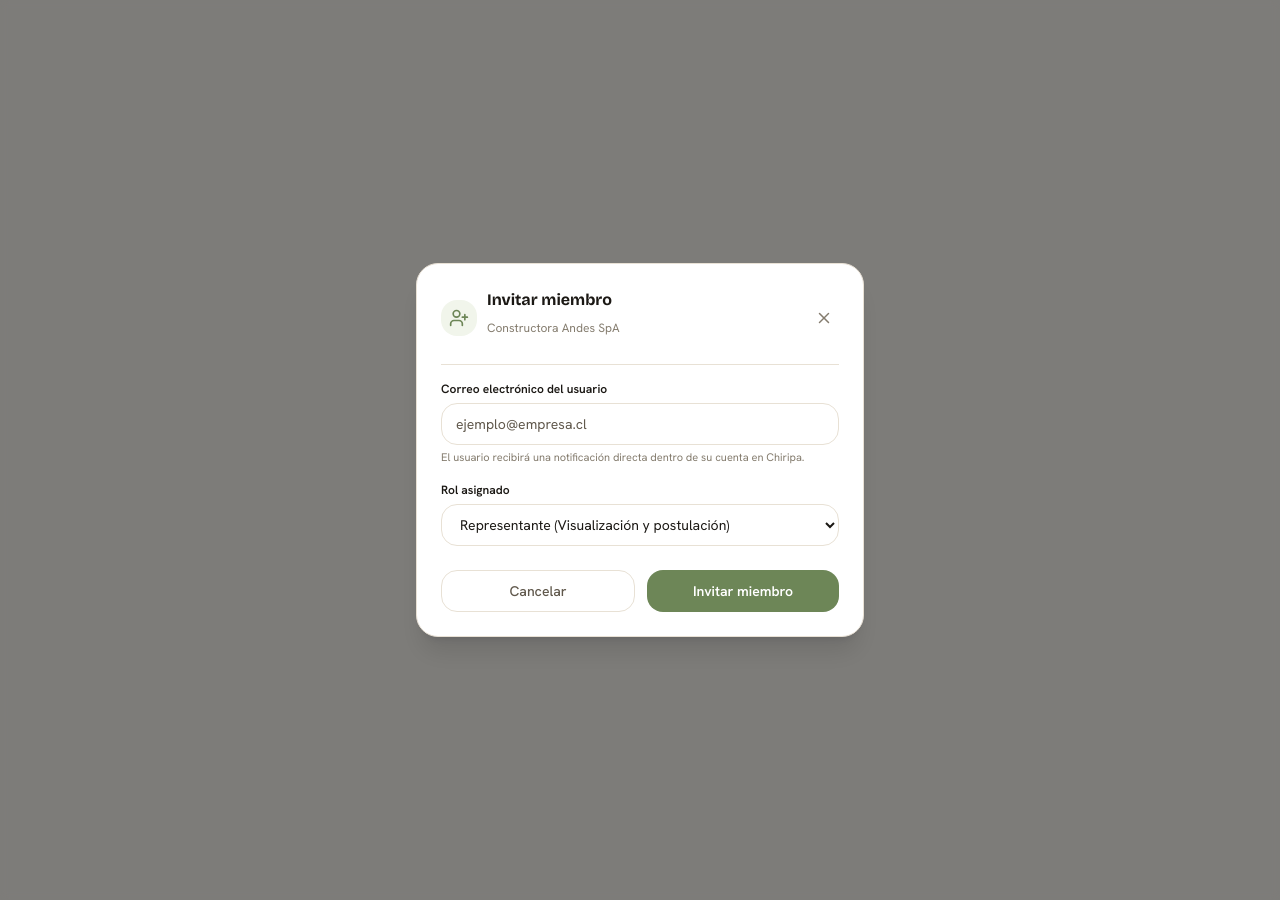
Test case: InviteMemberModal › envía la invitación in-app y muestra mensaje de éxito al completar
Type "socio@andes.cl" into the field labelled "Correo electrónico del usuario" at (640, 424), box top-left (441, 403), bottom-right (839, 445)
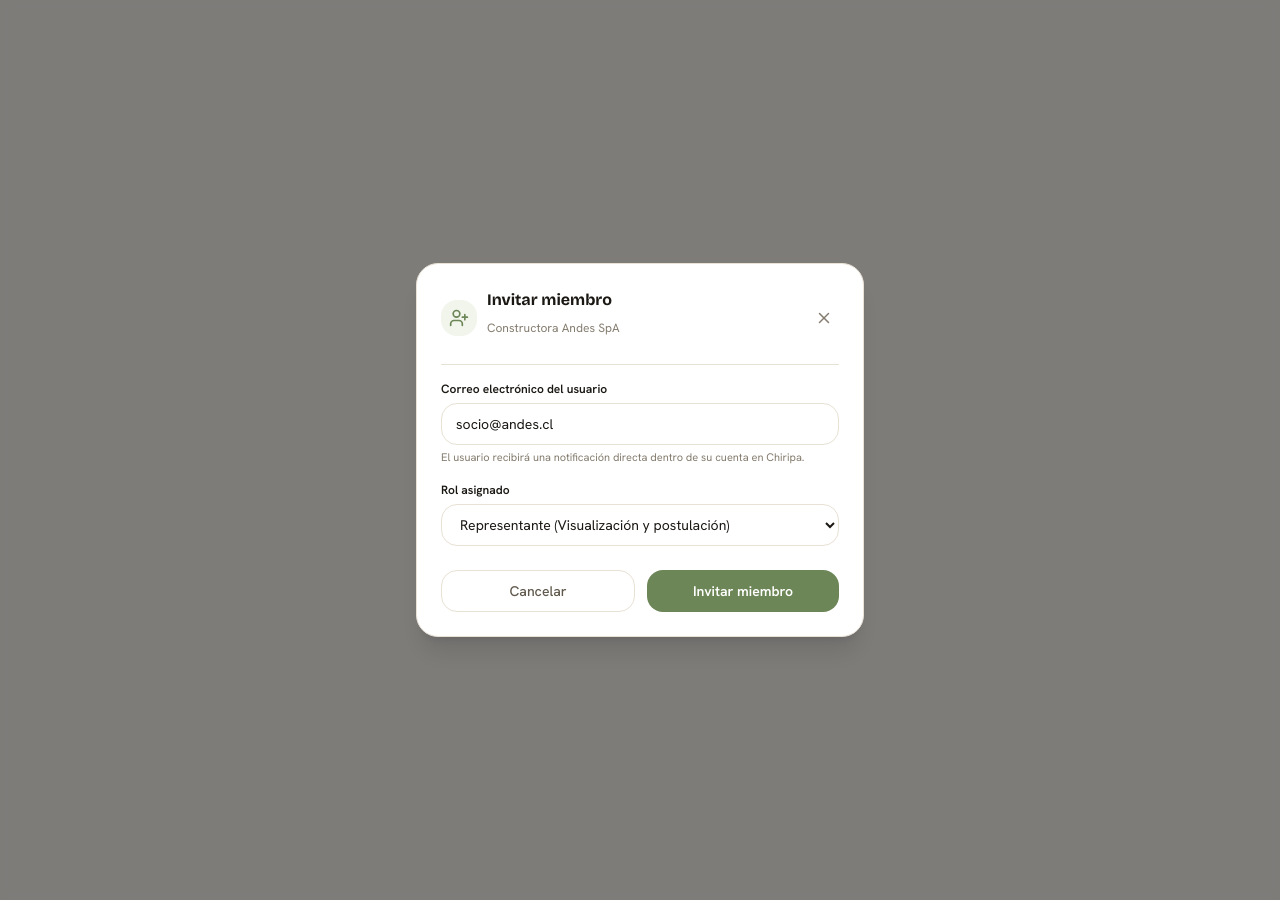
Select "Administrador (Gestión total y miembros)" in the dropdown labelled "Rol asignado" at (640, 525), box top-left (441, 504), bottom-right (839, 546)
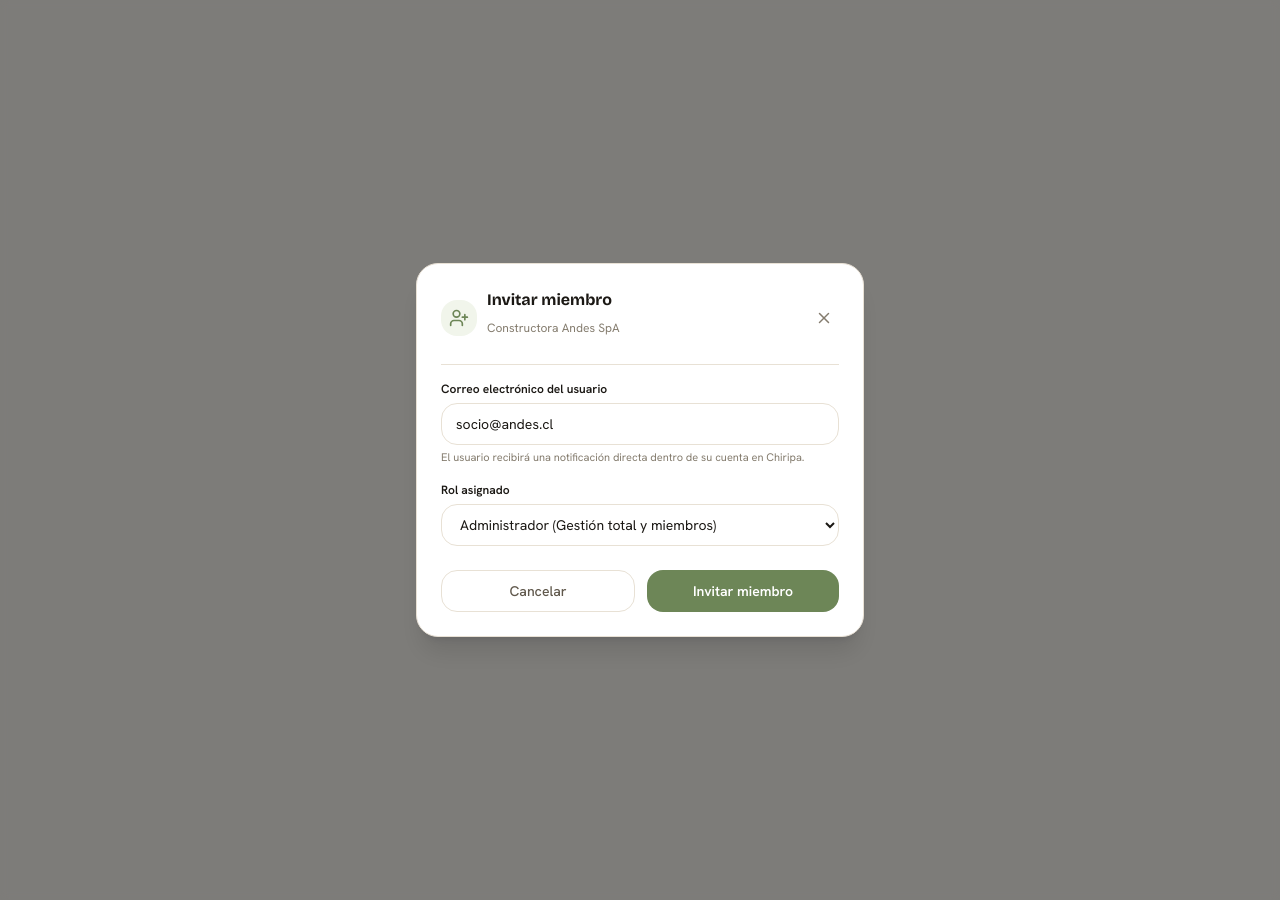
Click the button "Invitar miembro" at (743, 591), box top-left (647, 570), bottom-right (839, 612)
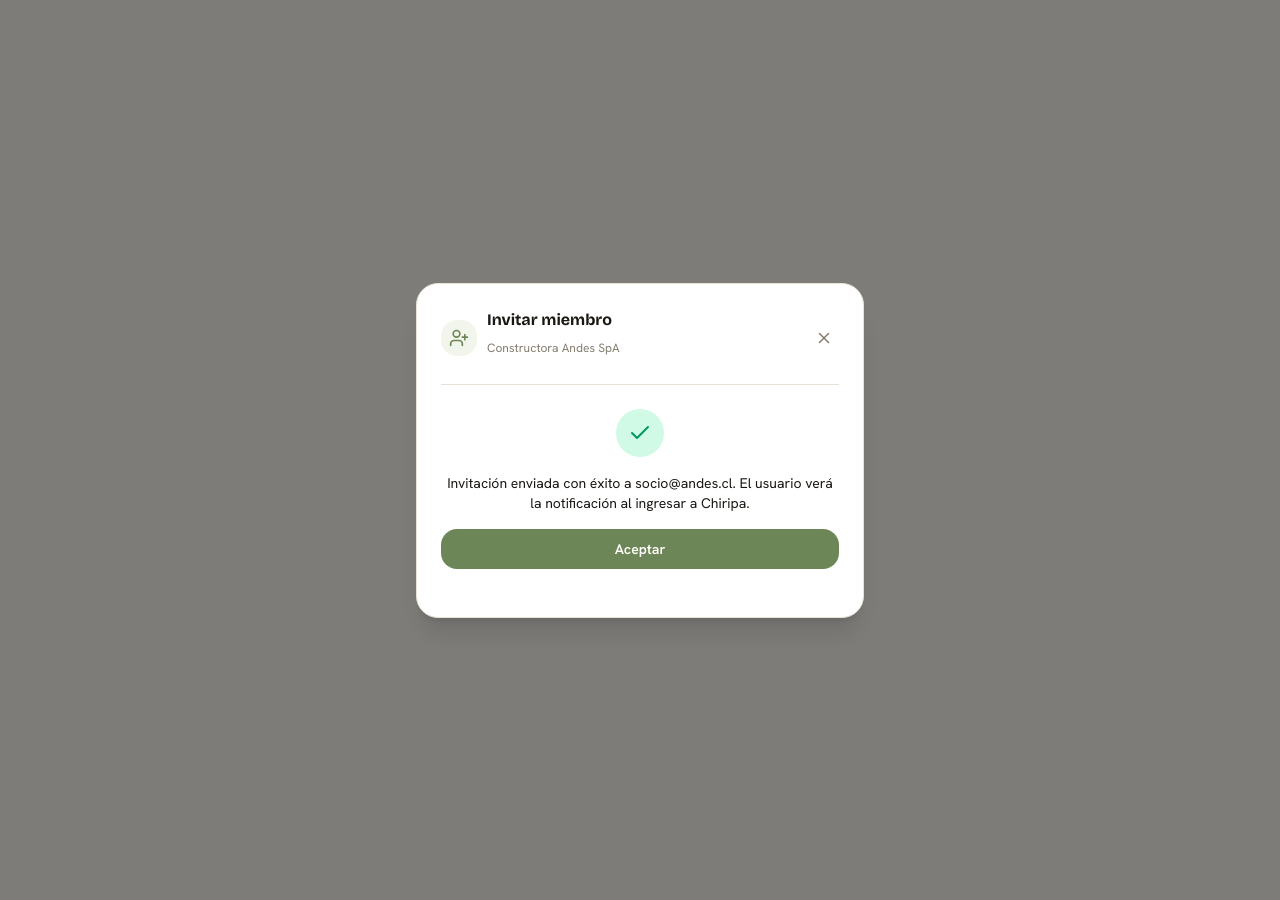
Now the text "Invitación enviada con éxito a socio@andes.cl" is shown, box top-left (447, 474), bottom-right (833, 512)
